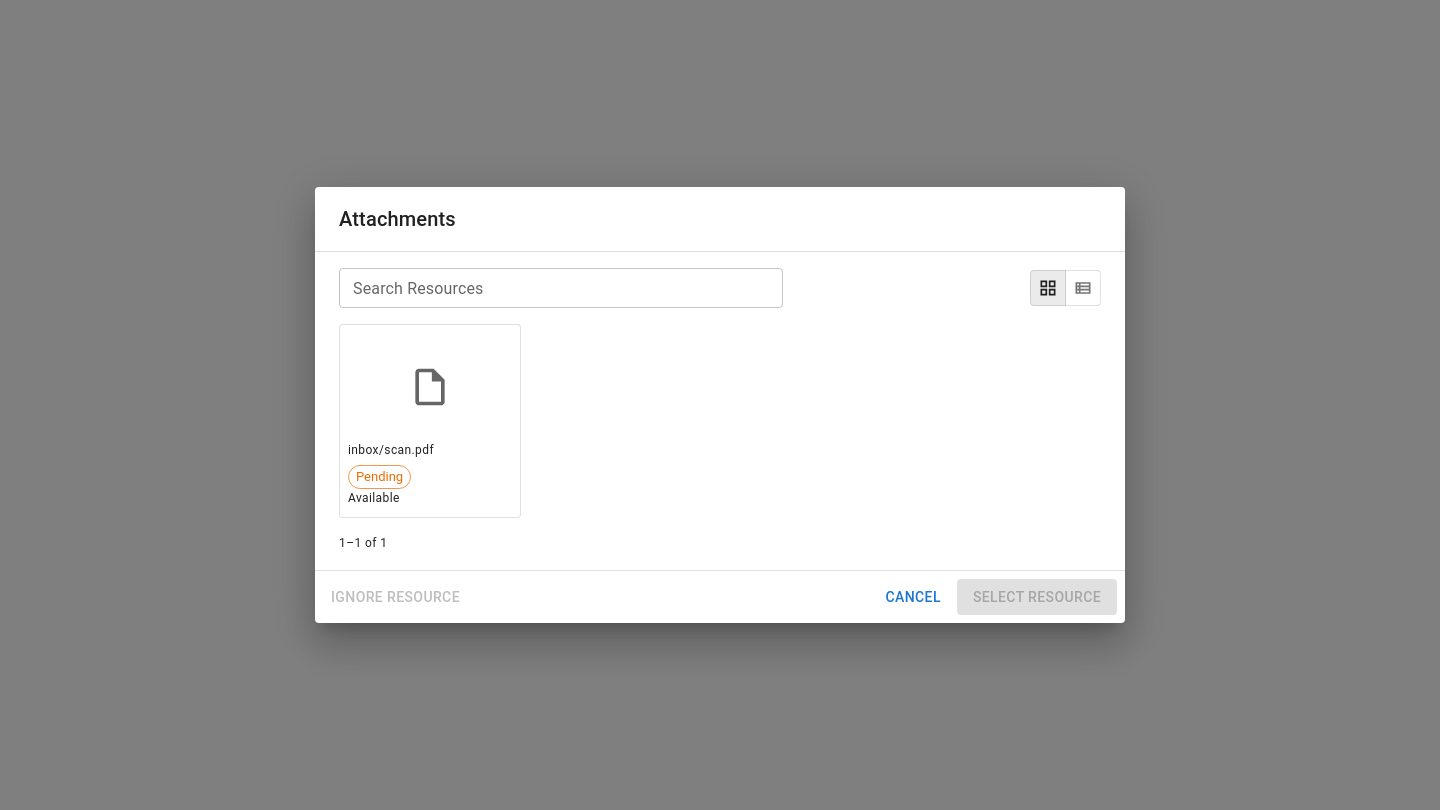
Test case: ResourcePickerDialog thumbnail view › ignores a selected inbox file and removes it from the selectable list
The width and height of the screenshot is (1440, 810).
Click the text "inbox/scan.pdf" at (391, 450), box [348,443,434,457]
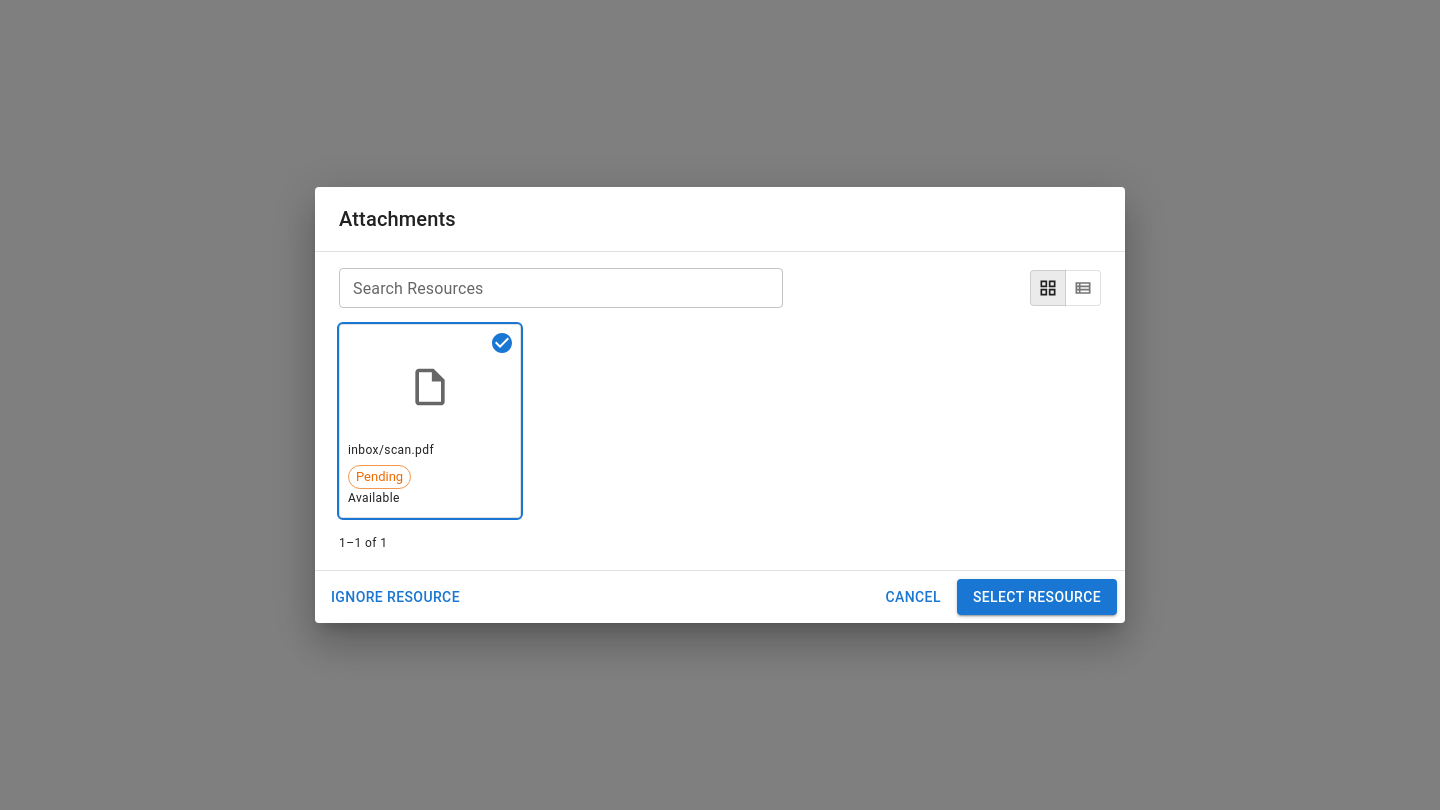
Click the button "Ignore Resource" at (396, 597), box [323,579,468,615]
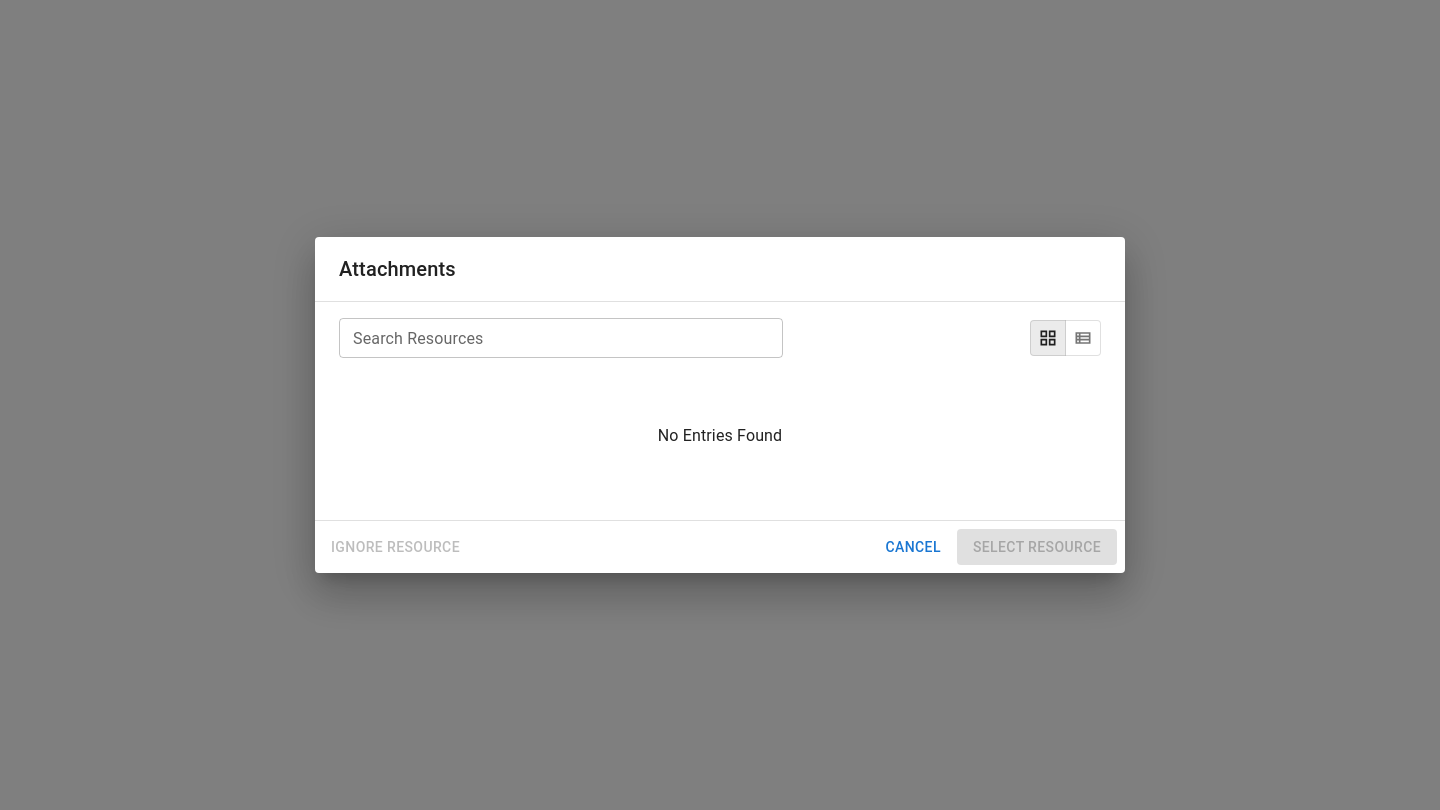
Result: the heading "No Entries Found" is shown at [658,426,782,445]
